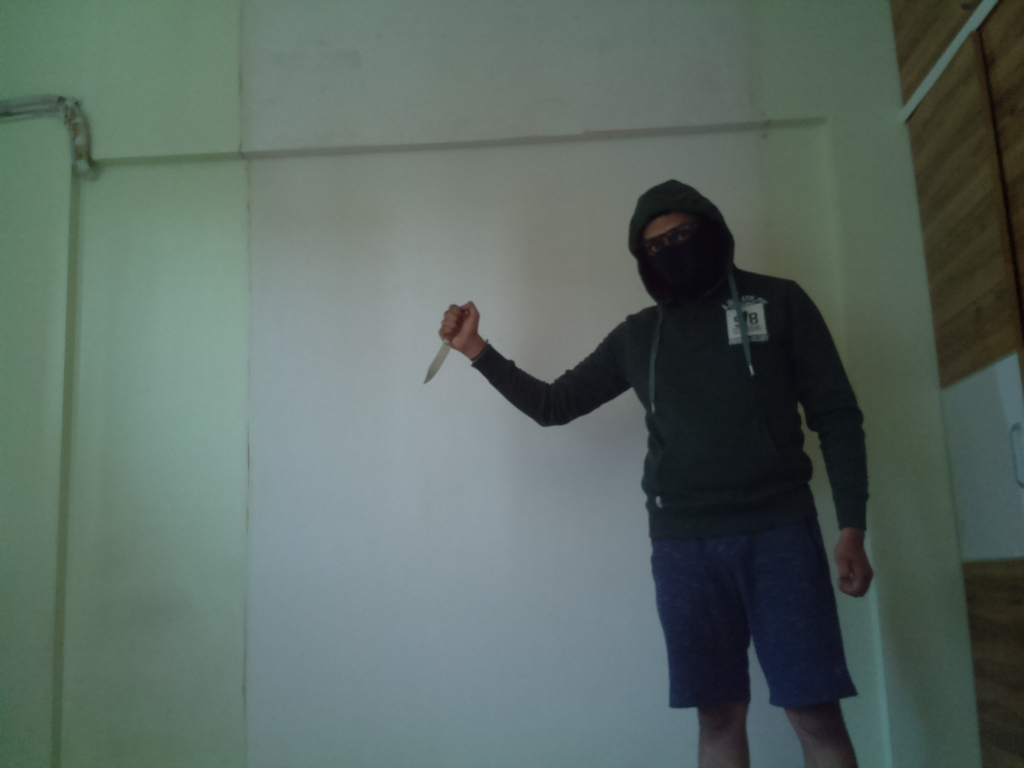knife: (415, 325, 461, 388)
